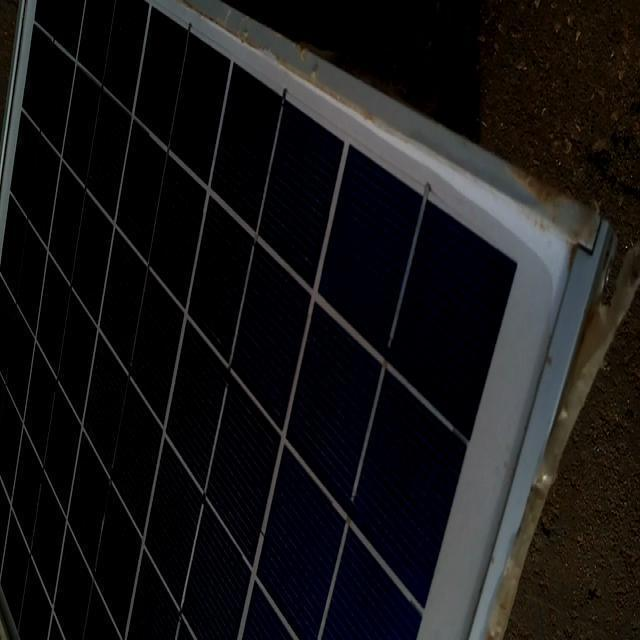Normal Solar Panel: (0, 1, 615, 640)
